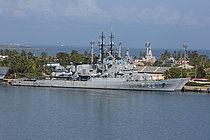MIL_Ship: (9, 59, 182, 93)
